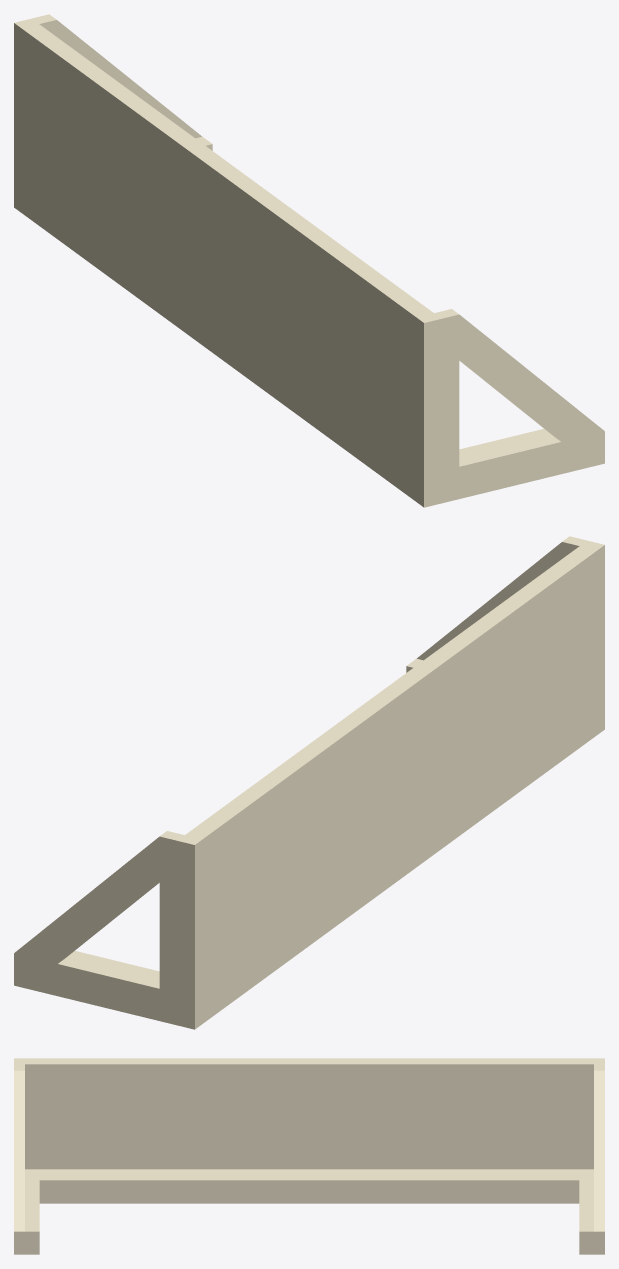
Rendered from BlueWall.fbx.
3 views of the same model, one above another, from view 1: azimuth 30°, elevation 25°; view 2: azimuth 150°, elevation 25°; view 3: azimuth 270°, elevation 25° (orthographic). The views are drawn at different scales.
Parts seen in each view (by area): view 1: Part 2, Part 7, Part 4, Part 9, Part 6, Part 10; view 2: Part 2, Part 8, Part 5, Part 10, Part 6, Part 9; view 3: Part 2, Part 3, Part 6, Part 10, Part 9, Part 7, Part 8.
Part boxes in pixels (left/top/right/bottom): Part 2: left=14, top=22, right=428, bottom=507; Part 7: left=459, top=429, right=604, bottom=498; Part 4: left=421, top=309, right=459, bottom=506; Part 9: left=459, top=314, right=604, bottom=441; Part 6: left=26, top=24, right=433, bottom=316; Part 10: left=57, top=20, right=201, bottom=138; Part 2: left=190, top=544, right=604, bottom=1029; Part 8: left=14, top=951, right=159, bottom=1020; Part 5: left=159, top=831, right=197, bottom=1028; Part 10: left=14, top=836, right=159, bottom=963; Part 6: left=185, top=546, right=592, bottom=838; Part 9: left=417, top=542, right=561, bottom=660; Part 2: left=14, top=1058, right=604, bottom=1169; Part 3: left=25, top=1169, right=593, bottom=1203; Part 6: left=25, top=1059, right=593, bottom=1087; Part 10: left=594, top=1070, right=604, bottom=1231; Part 9: left=14, top=1070, right=24, bottom=1231; Part 7: left=14, top=1180, right=39, bottom=1254; Part 8: left=579, top=1180, right=604, bottom=1254.
Bounding box in the file's own units: 52.07 × 50.8 × 205.
